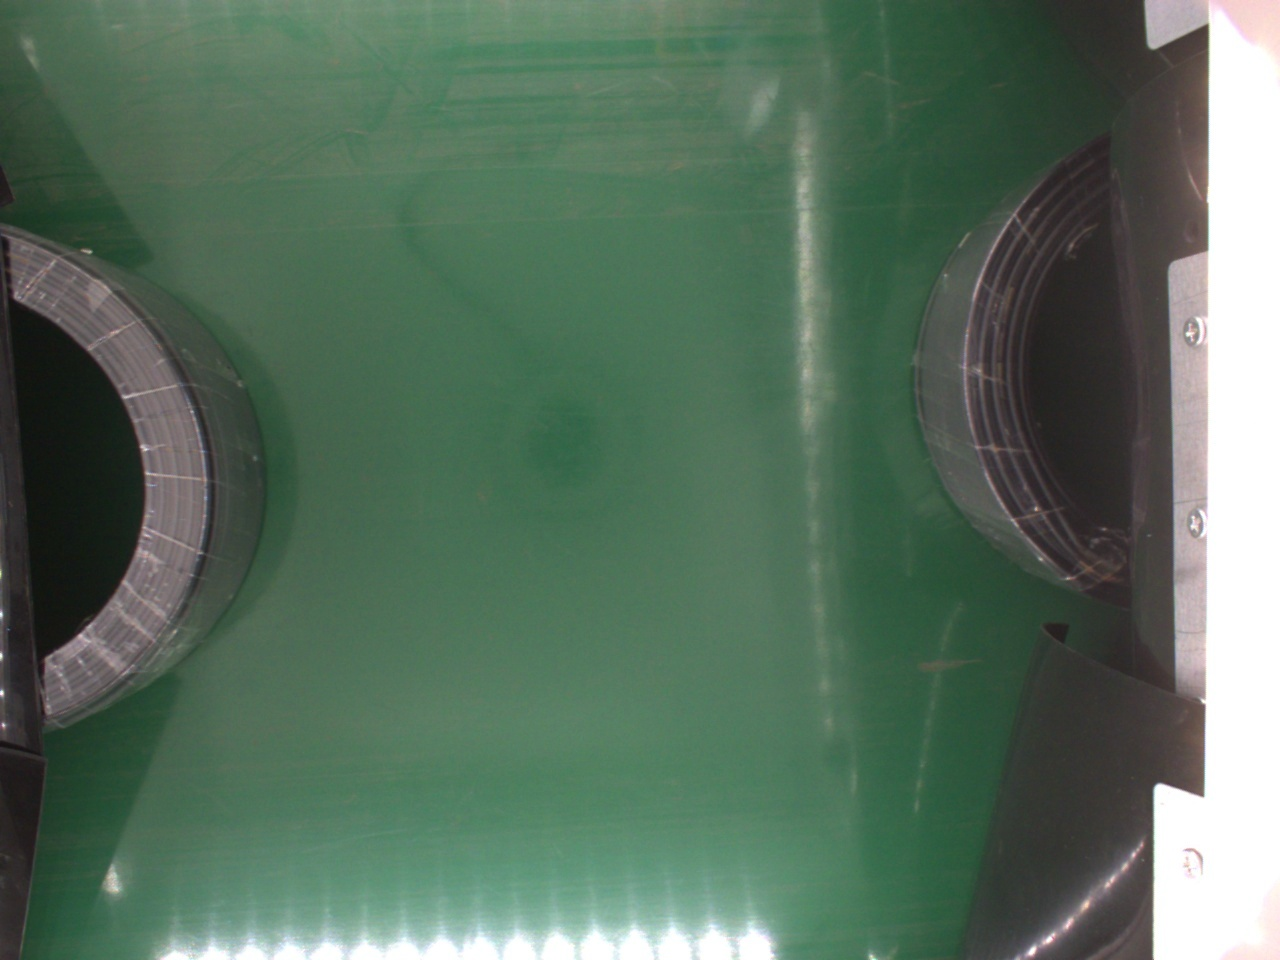black: (8, 225, 265, 728), (912, 133, 1141, 606)
